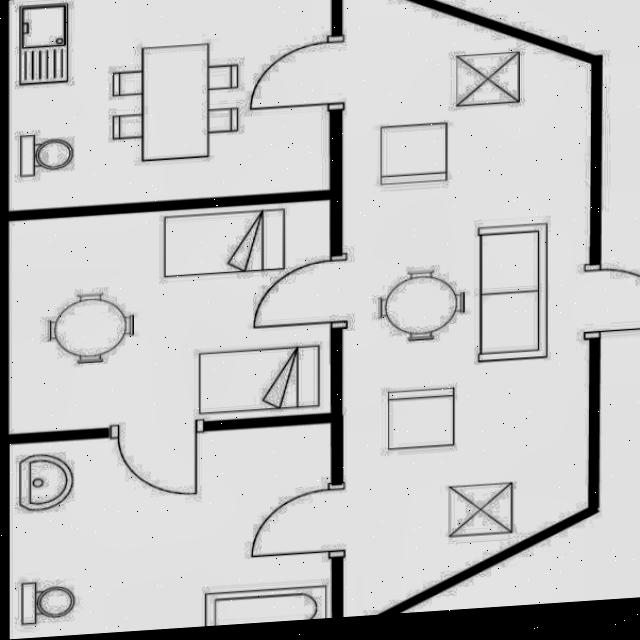room: (343, 0, 592, 617), (0, 199, 344, 434), (0, 422, 345, 639), (9, 0, 331, 210)
